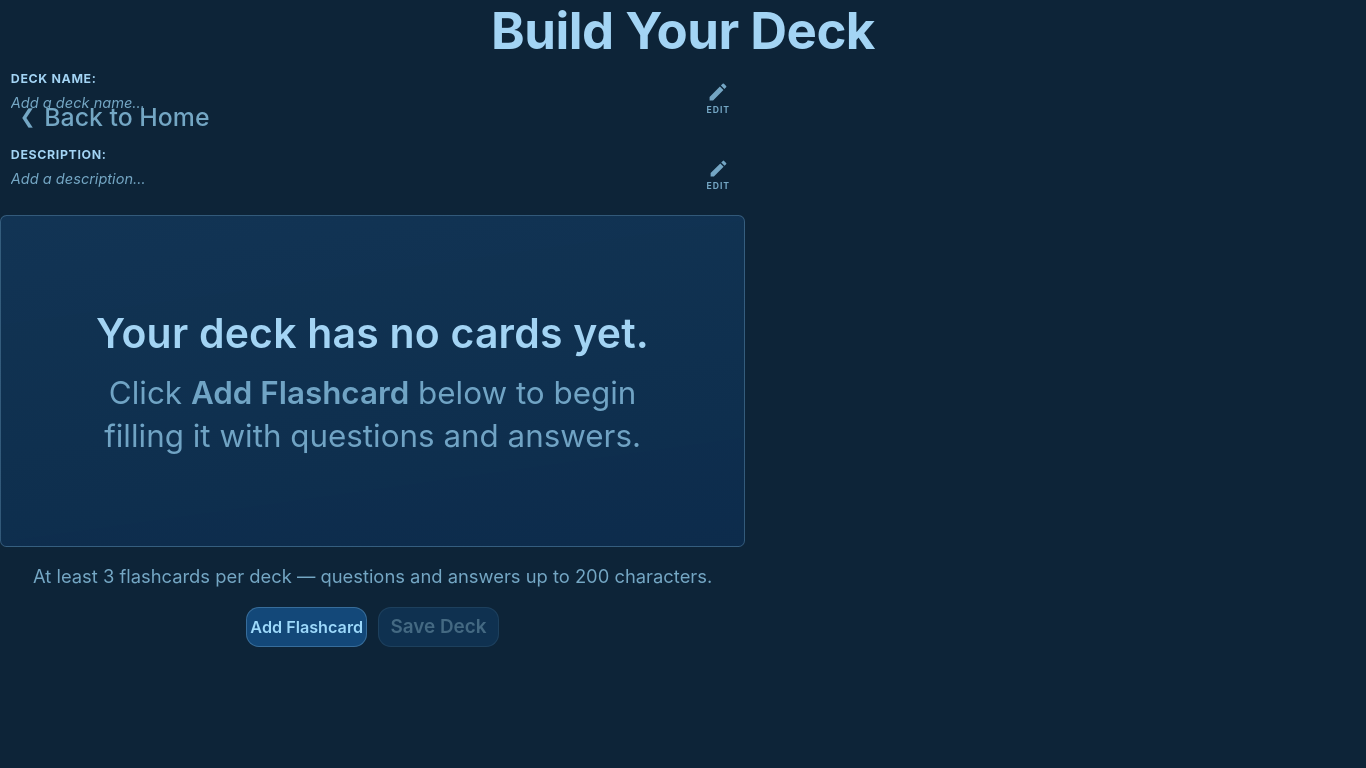
Scenario: DeckFormPage › saved cards show their question and answer on a tile
Click the button "Add Flashcard" at (307, 627), box [246, 607, 367, 647]
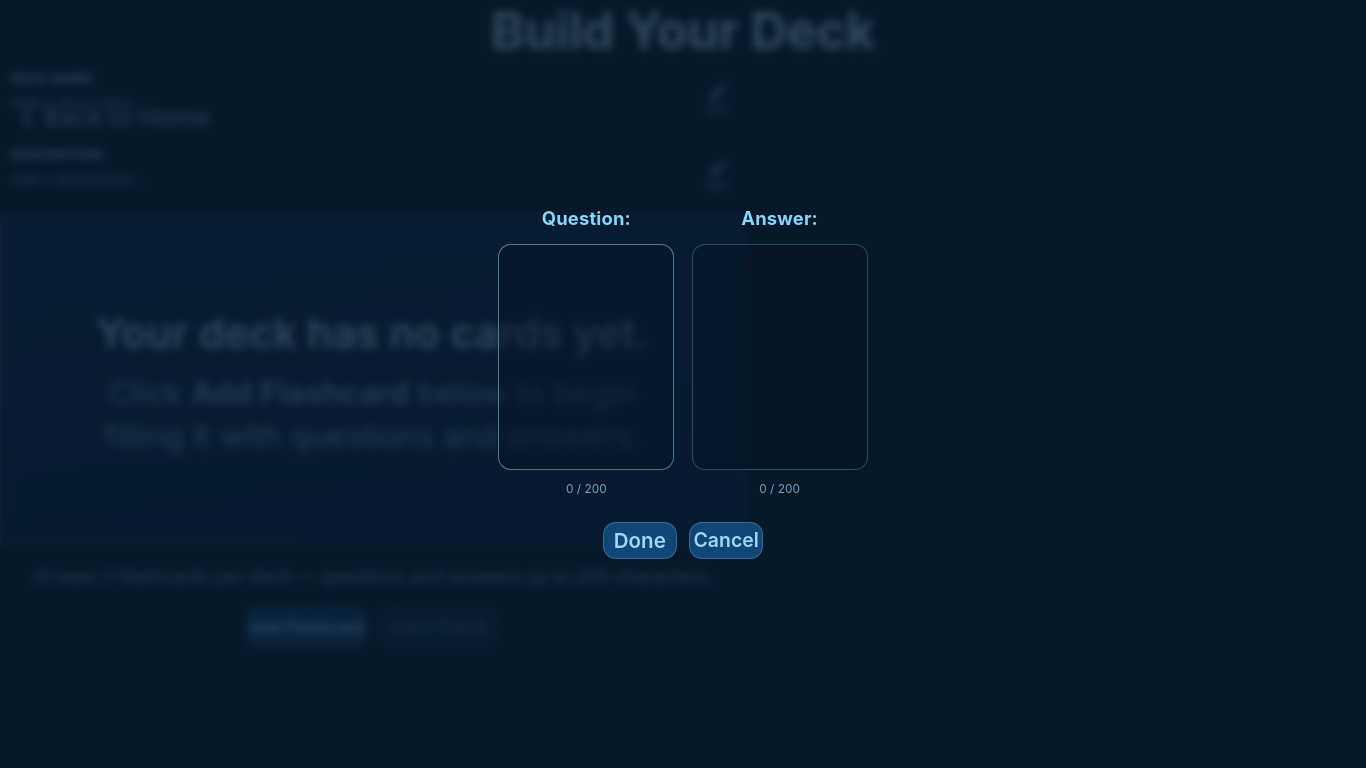
Type "What is the capital of France?" into the text box labelled "Question:" at (586, 357), box [498, 244, 674, 470]
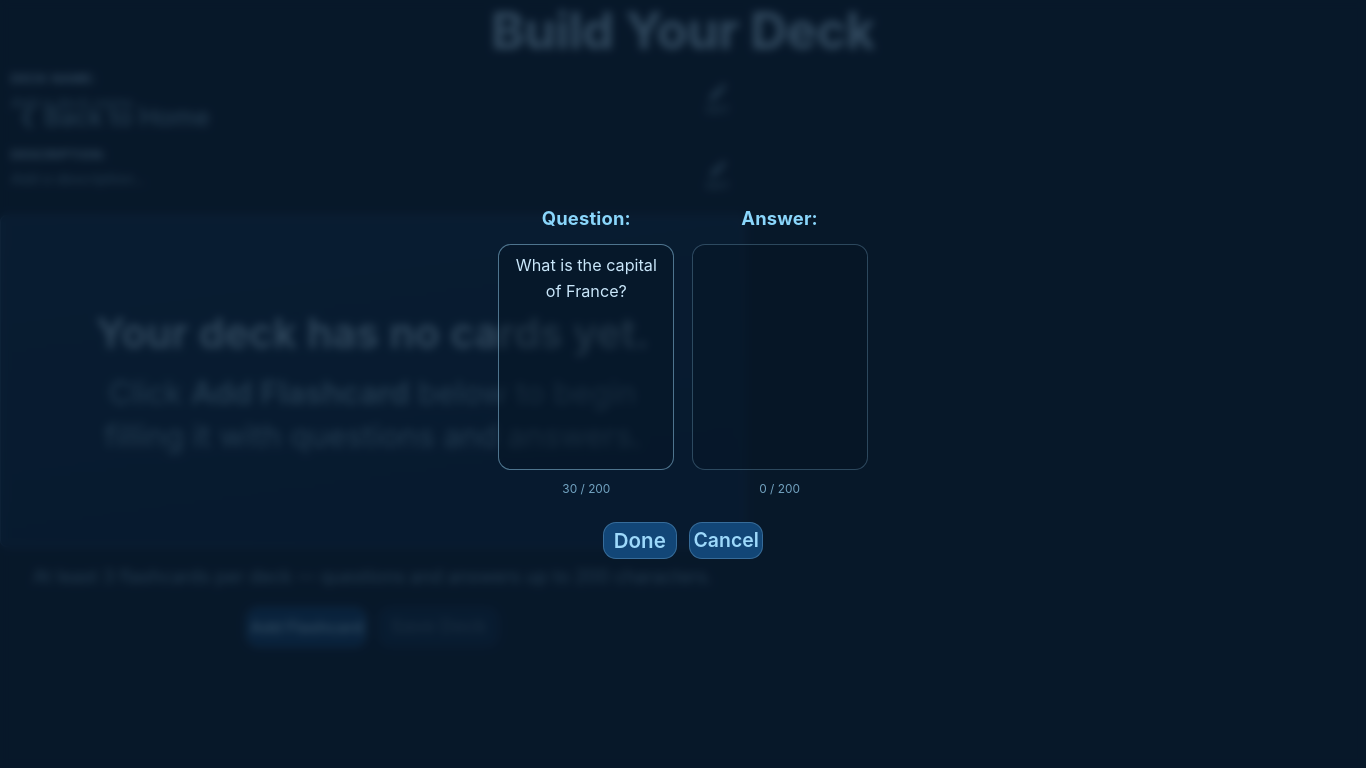
Type "Paris" into the text box labelled "Answer:" at (780, 357), box [692, 244, 868, 470]
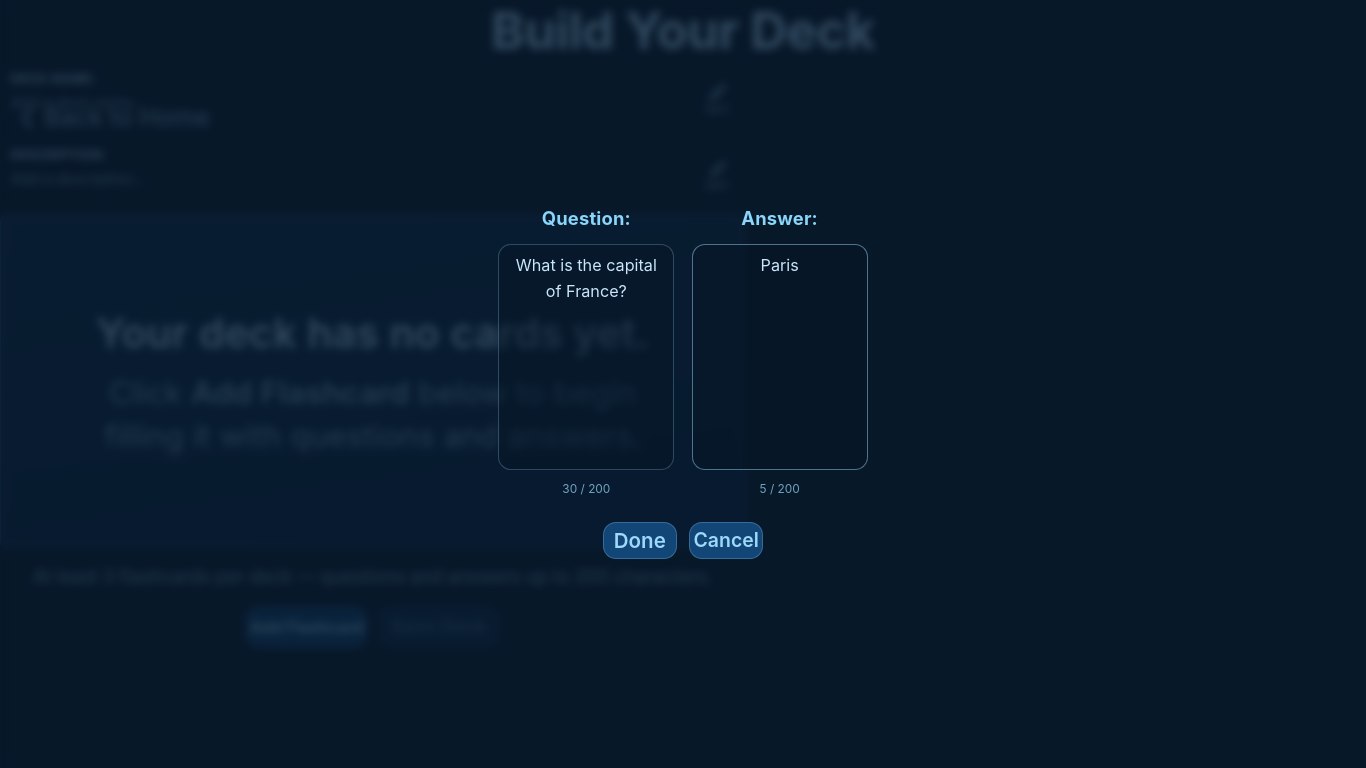
Click the button "Done" at (640, 540), box [603, 522, 676, 559]
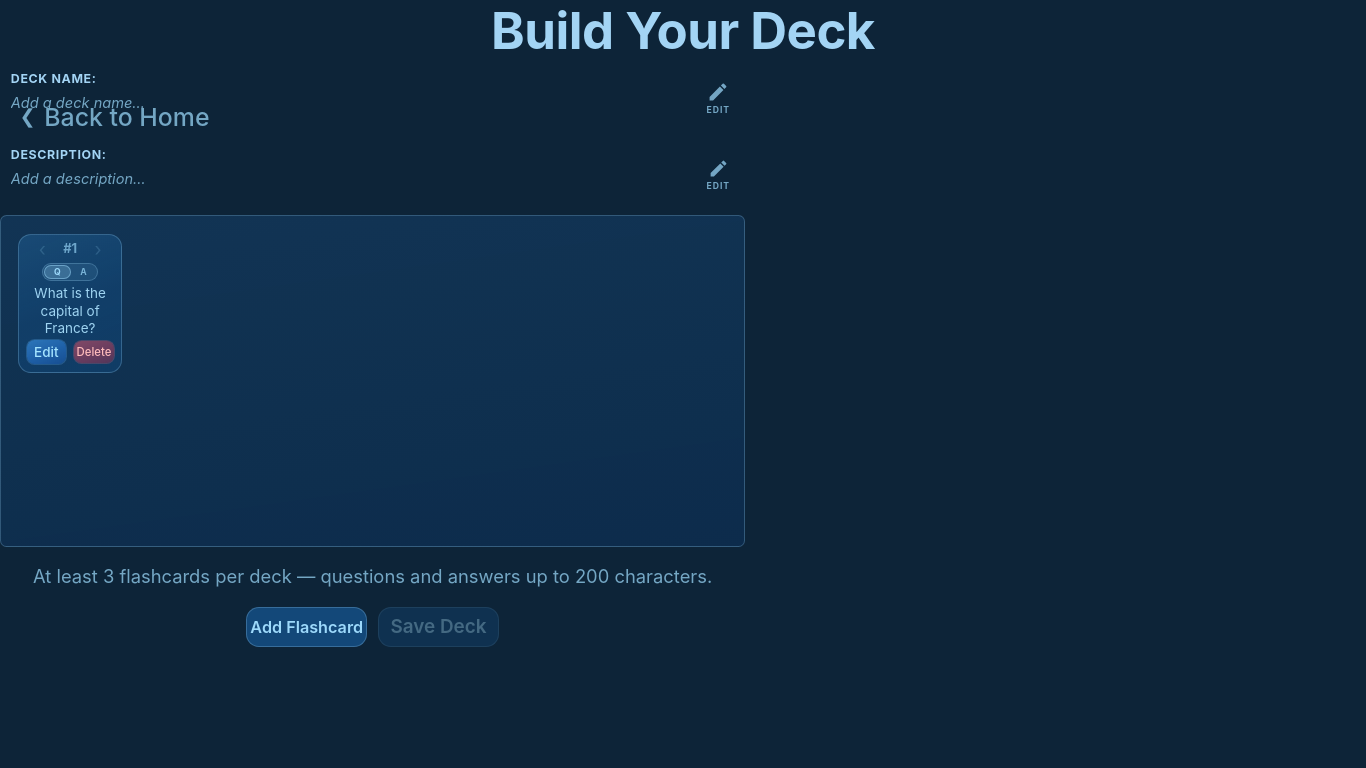
Check: the text "#1" is shown, box [63, 238, 77, 259]
Click the button named "Show answer 1" at (84, 272), box [71, 265, 96, 279]
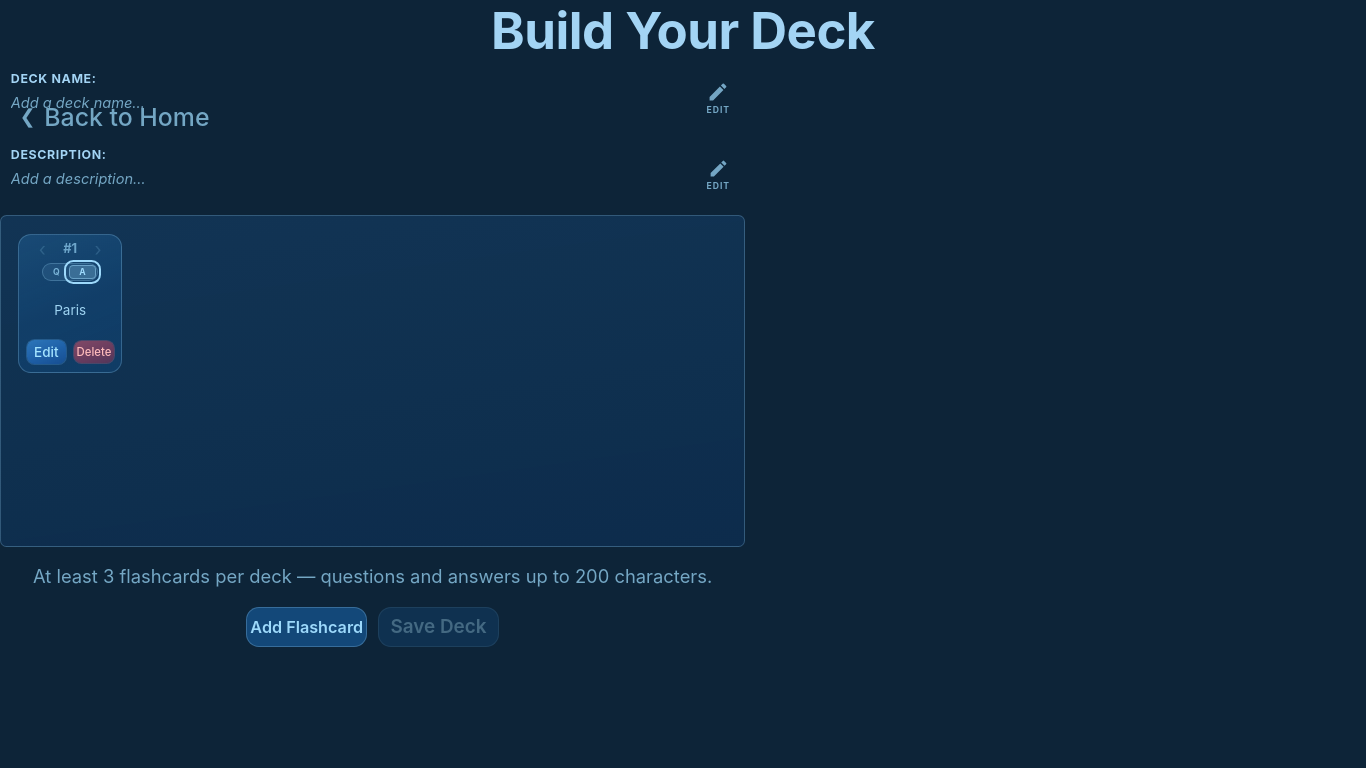
Check: the text "Paris" is shown, box [54, 302, 86, 318]
Check: the text "What is the capital of France?" is gone
